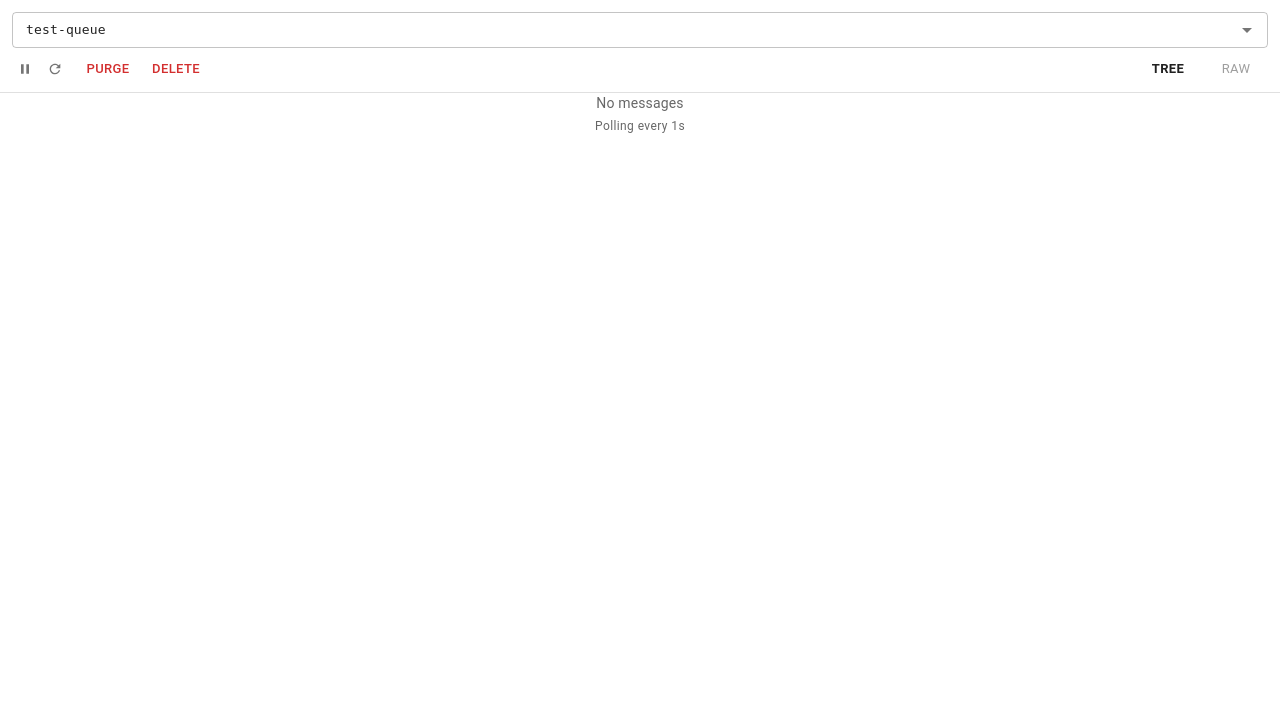
Test: <QueueColumn /> › shows purge queue confirmation dialog when Purge button is clicked
Click the button "Purge": (108, 69) [76,54,140,84]
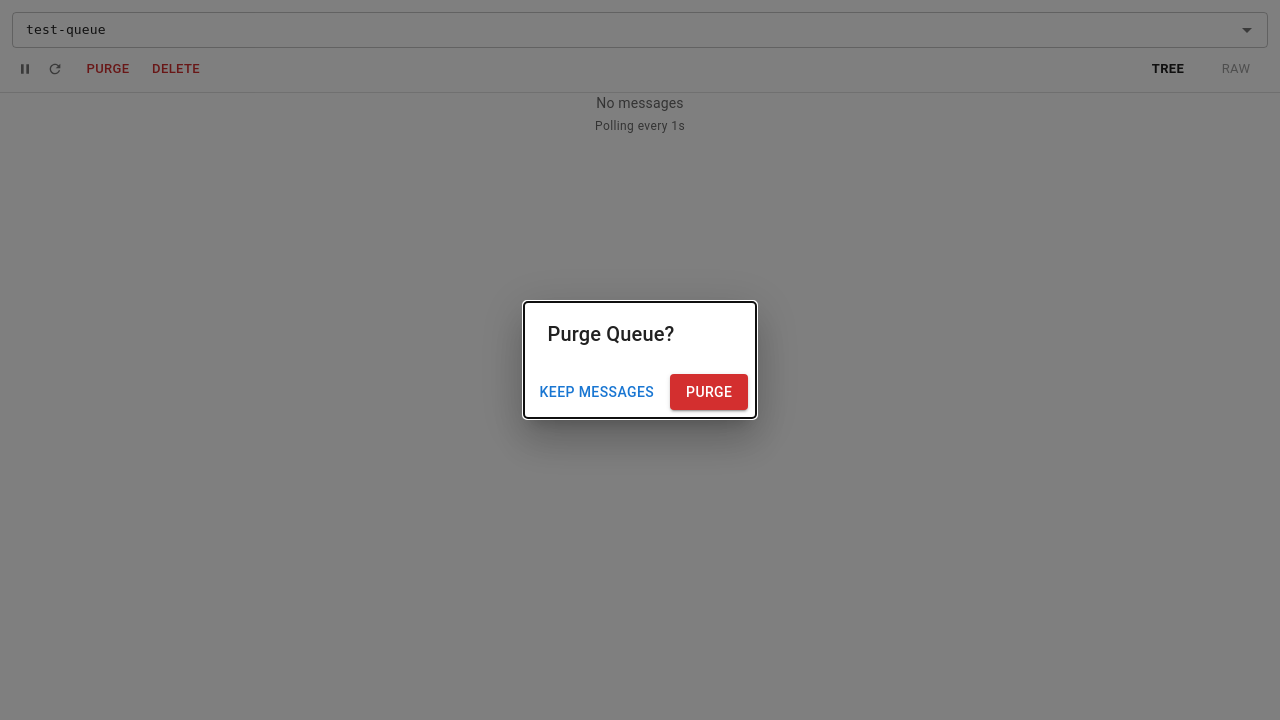
Check: the heading "Purge Queue?" is shown, box [548,322,674,346]
Check: the button "Purge" is shown, box [670,374,748,410]
